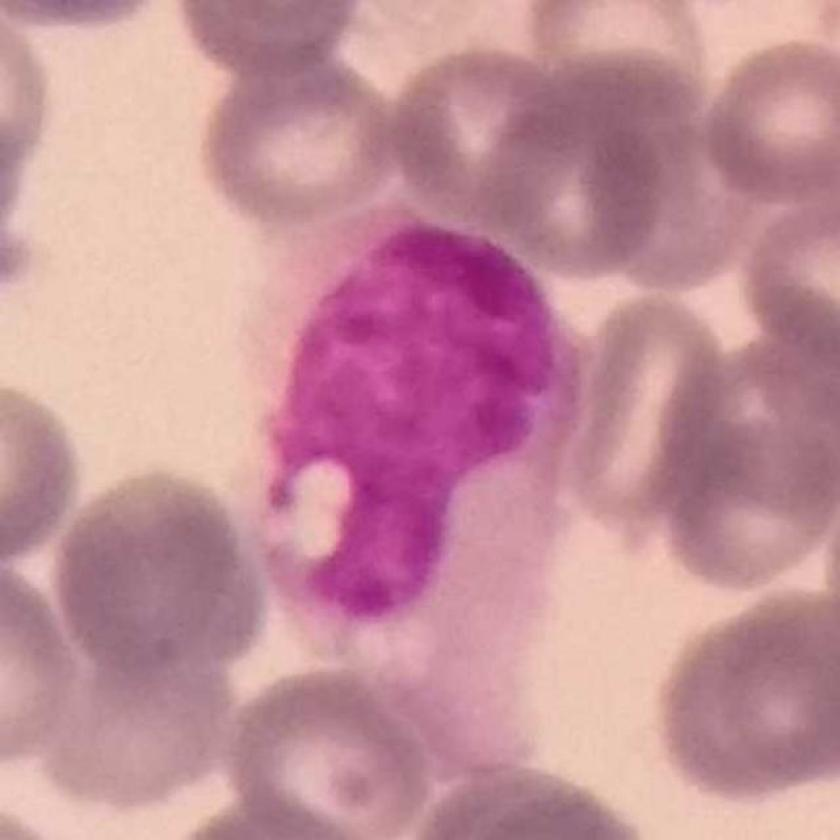monocyte: (239, 186, 587, 770)
